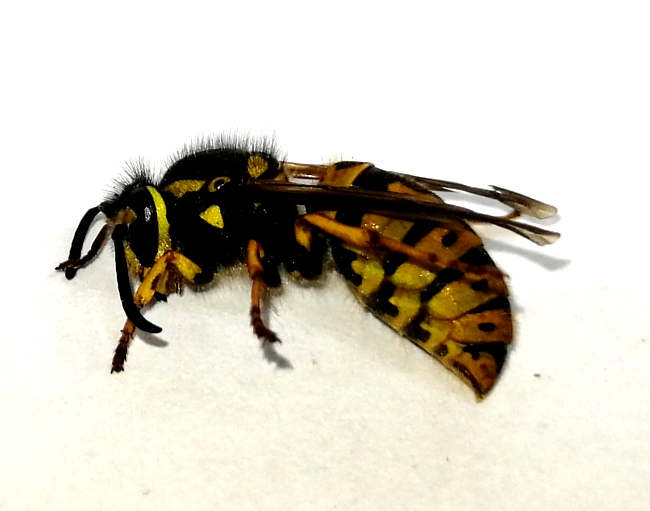chax: (43, 127, 570, 407)
